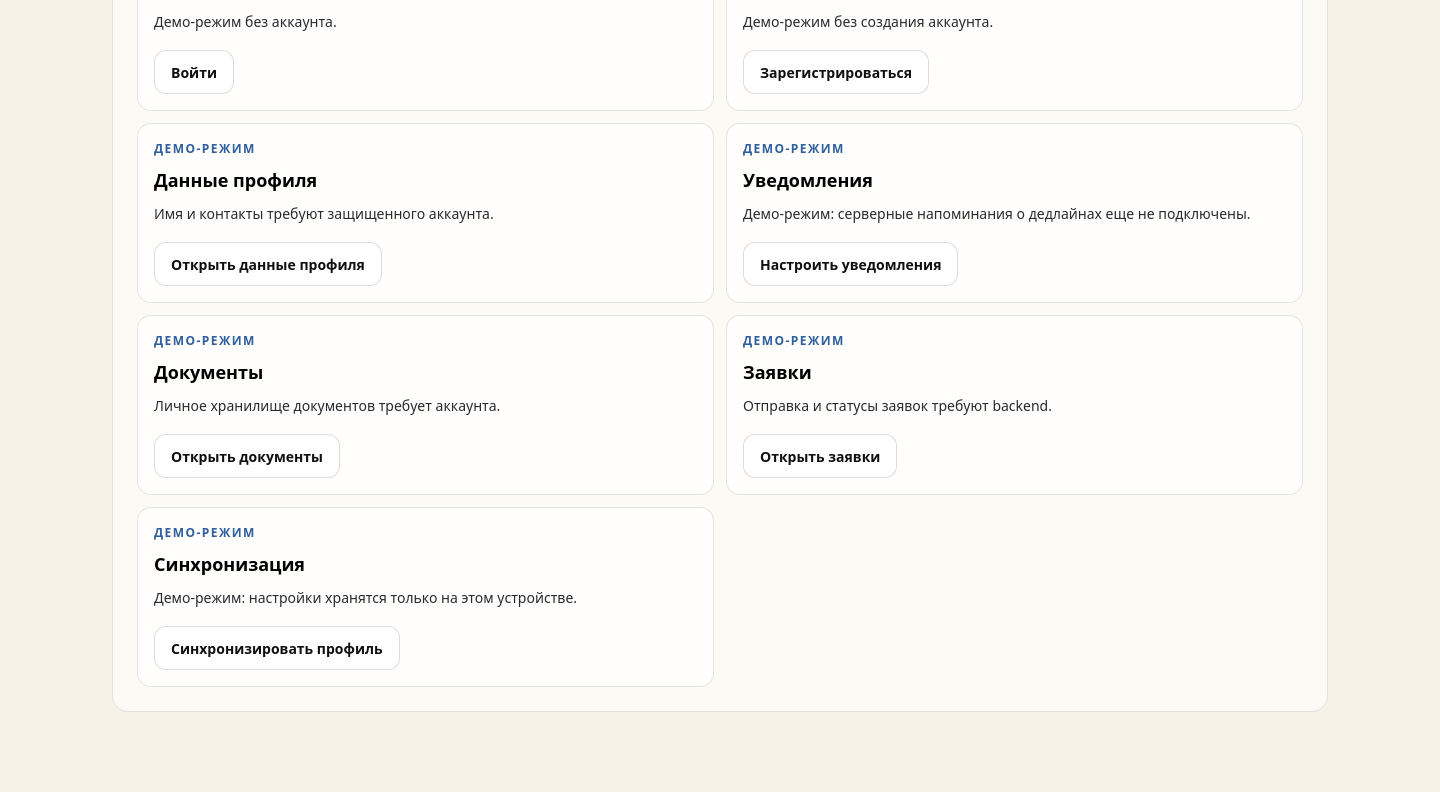
it: ProfileTab › announces unavailable backend capabilities without error language
This screenshot has width=1440, height=792.
(page scrolled)
Click the button "Синхронизировать профиль". click: (277, 648)
box: [154,626,400,670]
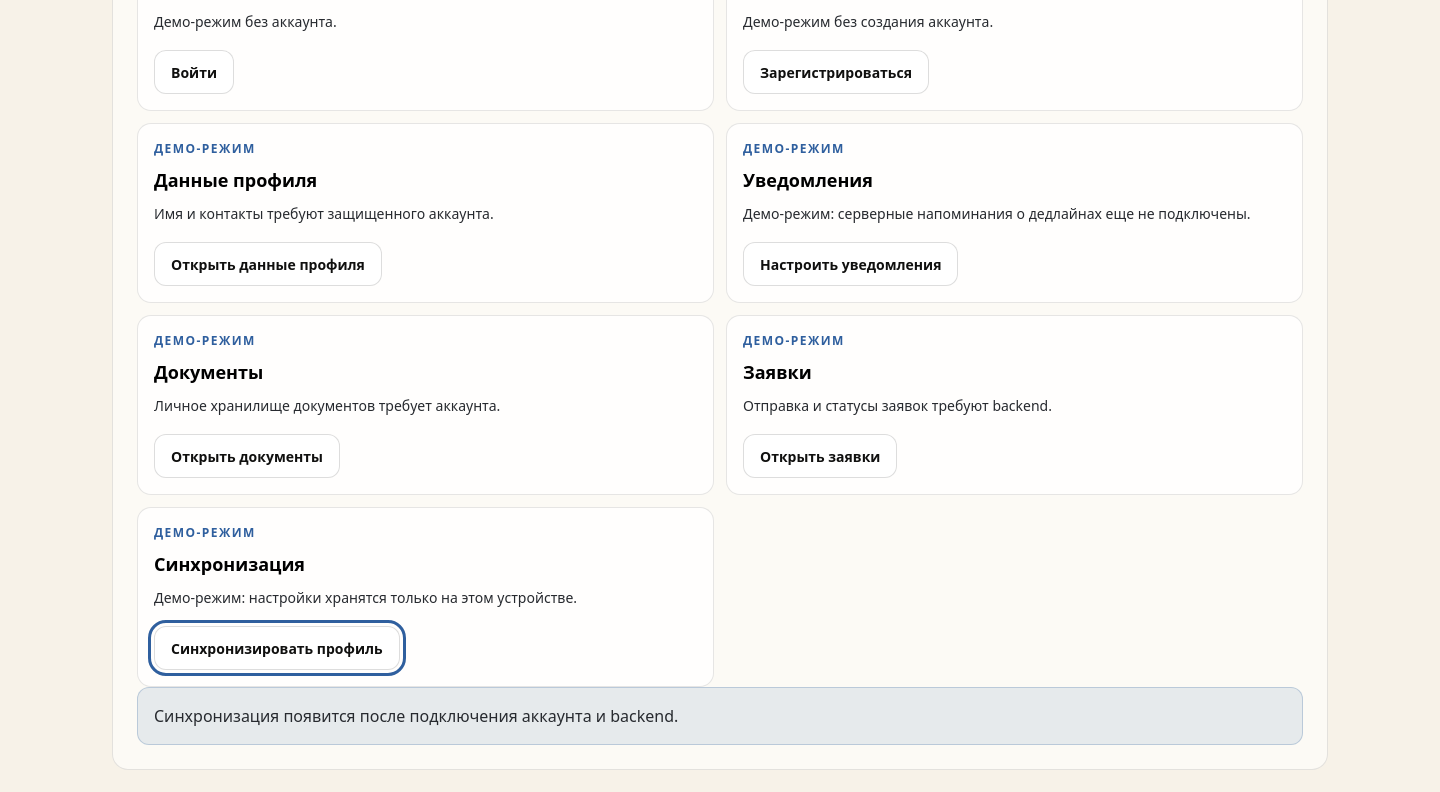
Check: the message reads "Синхронизация появится после подключения аккаунта и backend.", box [154,705,678,727]
